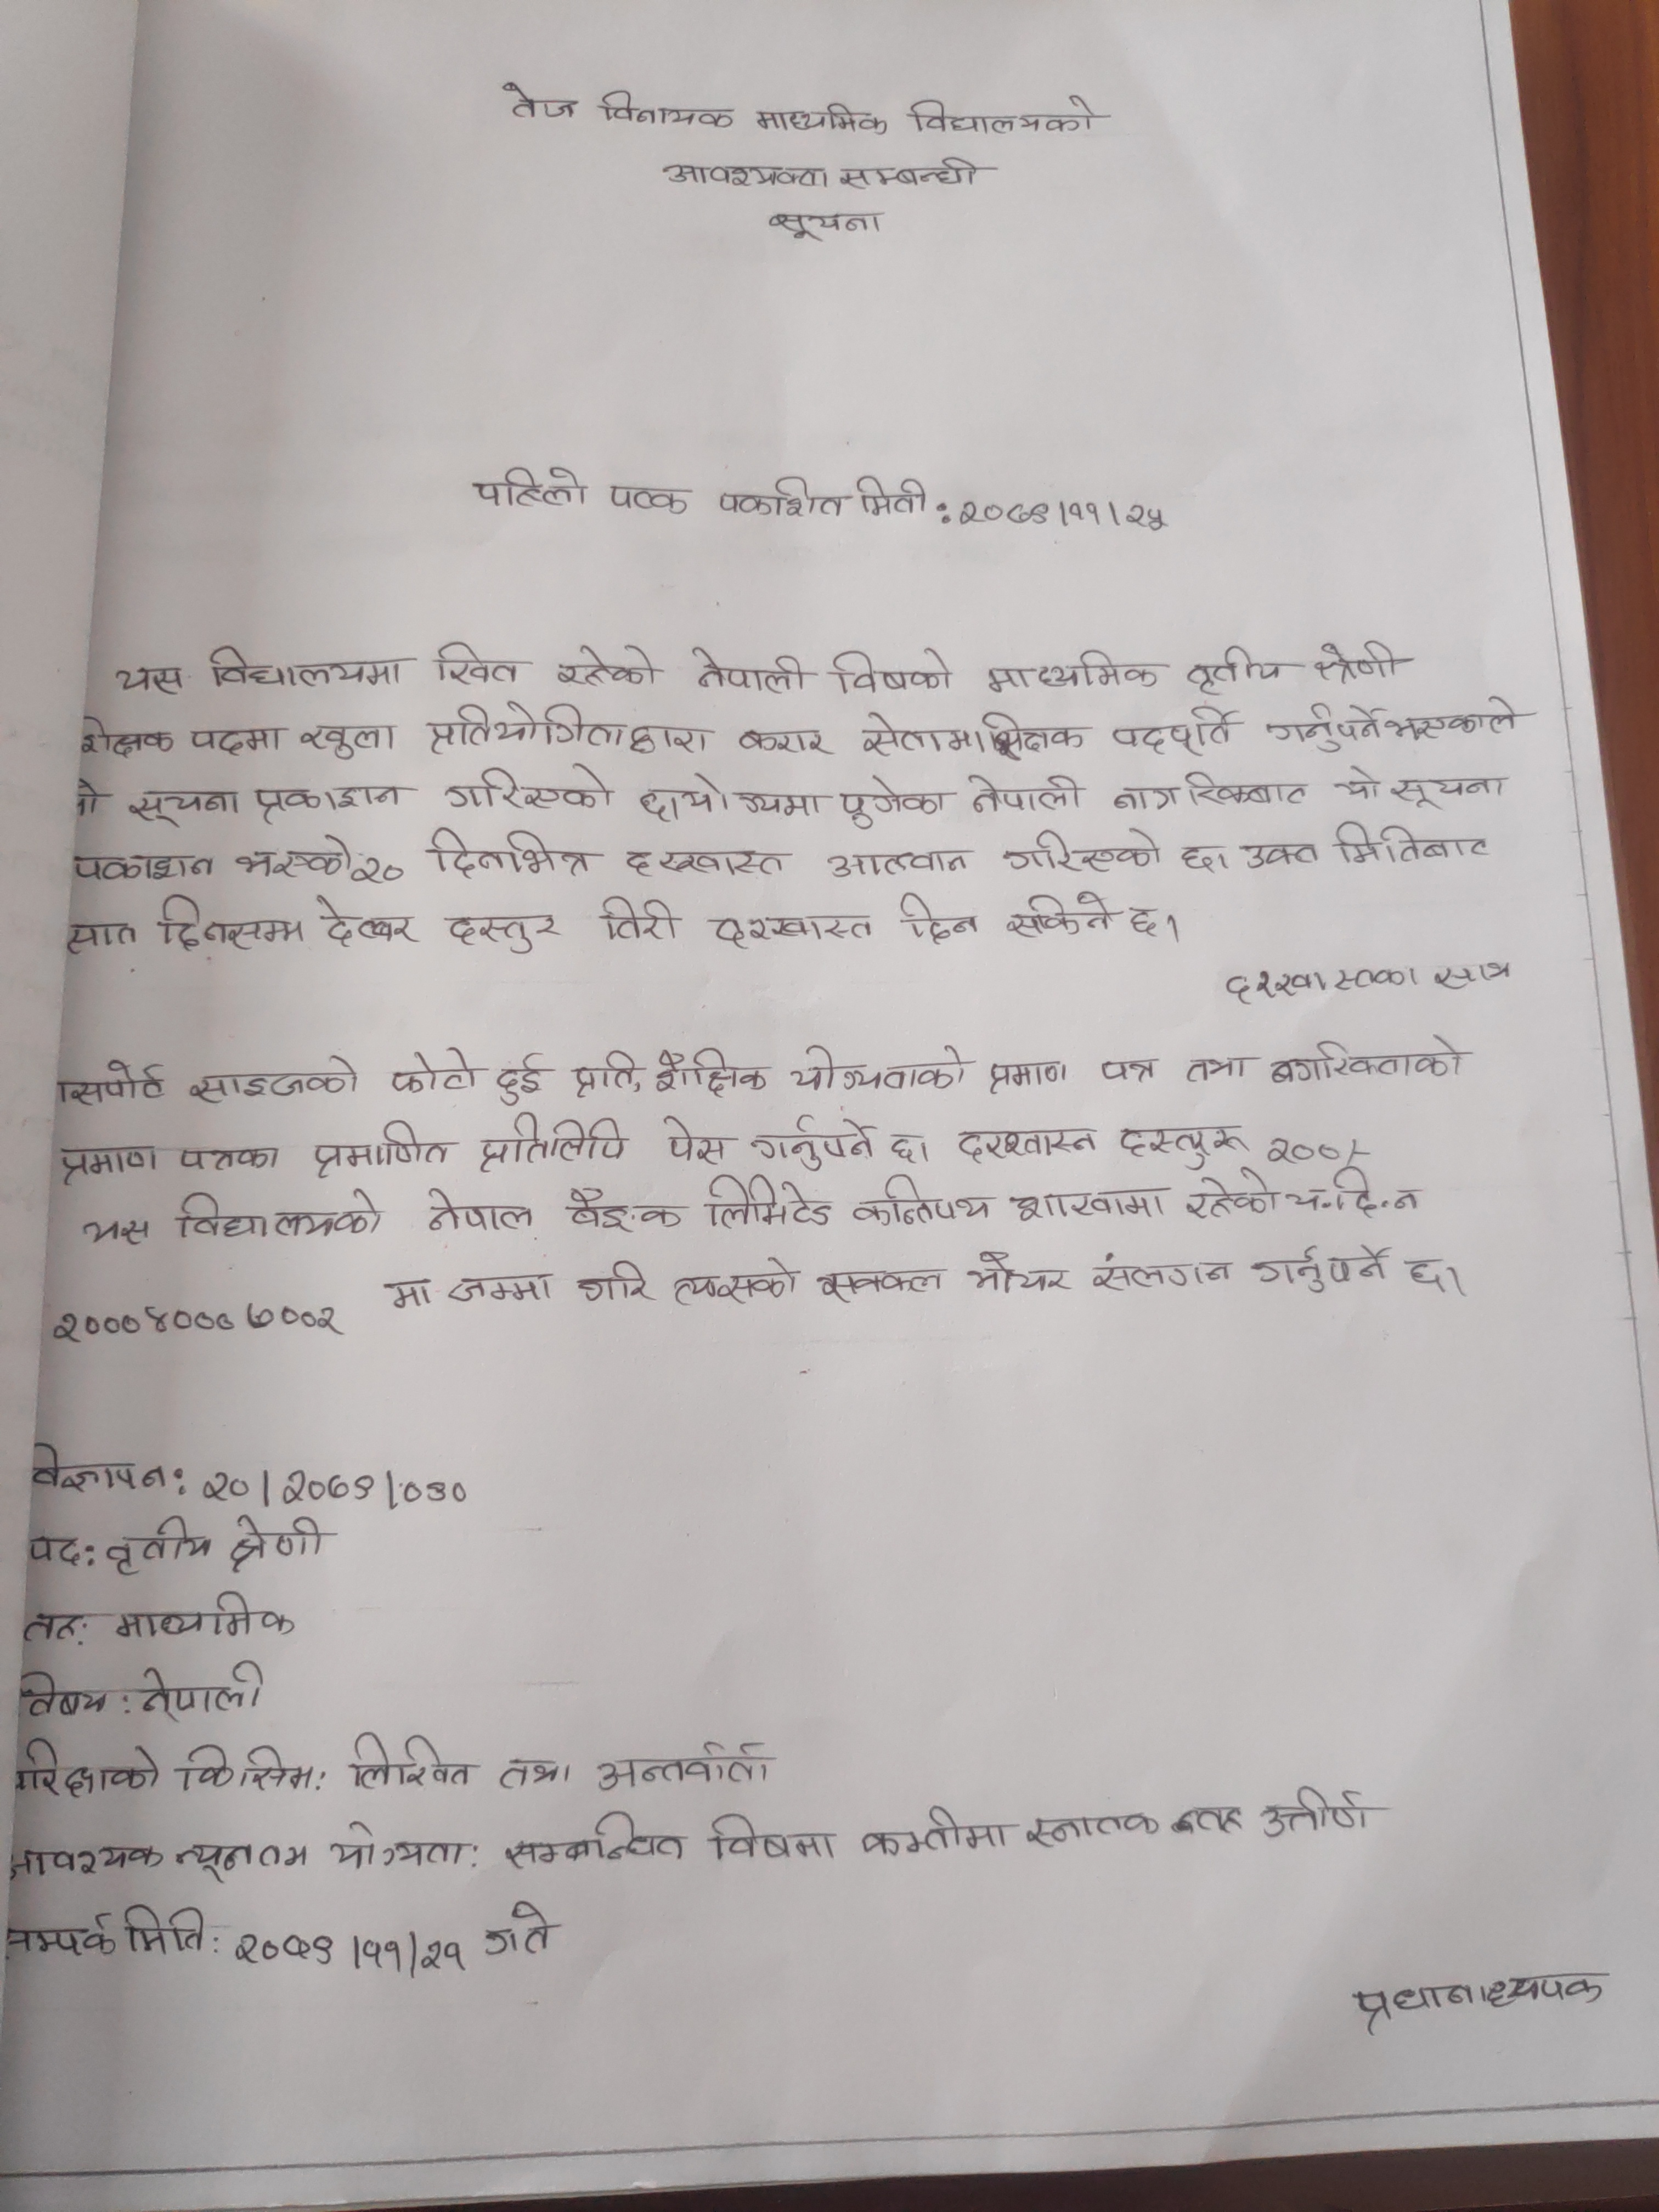text: (422, 700, 713, 759), (1349, 1970, 1612, 2031), (47, 1299, 345, 1348), (195, 1460, 477, 1508), (171, 1186, 390, 1244), (232, 1926, 467, 1979), (498, 1808, 694, 1871), (1265, 1035, 1474, 1087), (636, 770, 824, 826), (202, 643, 410, 693), (9, 1737, 160, 1804), (112, 1590, 301, 1642), (471, 1113, 627, 1176), (788, 1038, 969, 1092), (186, 1055, 364, 1109), (427, 826, 601, 880), (594, 1740, 779, 1791), (148, 892, 310, 949), (303, 1116, 455, 1177), (24, 1439, 173, 1500), (856, 1804, 1012, 1862), (132, 1656, 268, 1721), (443, 765, 620, 813), (1000, 826, 1169, 876), (347, 1728, 479, 1792), (985, 650, 1162, 697), (906, 94, 1105, 136), (702, 1169, 836, 1230), (1110, 770, 1314, 810), (850, 1170, 995, 1226), (706, 1808, 845, 1865), (854, 705, 986, 765), (1244, 1242, 1394, 1294), (324, 1818, 469, 1872), (749, 1111, 880, 1170), (1107, 705, 1244, 761), (1330, 817, 1497, 862), (955, 496, 1169, 531), (1258, 1785, 1380, 1846), (1384, 690, 1525, 742), (1281, 1170, 1422, 1223), (3, 1836, 166, 1881), (683, 641, 810, 698), (249, 780, 410, 826), (105, 1512, 216, 1576), (221, 1510, 335, 1573), (178, 1743, 317, 1794), (1086, 1245, 1234, 1292), (647, 1047, 775, 1101), (669, 1258, 805, 1308), (1006, 1186, 1169, 1228), (828, 644, 958, 695), (1114, 1123, 1248, 1172), (1263, 704, 1385, 756), (716, 475, 856, 521), (171, 1838, 310, 1883), (1004, 890, 1115, 946), (565, 1183, 687, 1233), (594, 89, 735, 132), (617, 845, 791, 880), (49, 1059, 167, 1109), (1021, 1808, 1164, 1850), (836, 777, 950, 829), (3, 1911, 117, 1963), (232, 831, 352, 880), (964, 1247, 1084, 1296), (1183, 644, 1291, 698), (706, 913, 878, 946), (441, 909, 566, 954), (835, 155, 990, 192), (471, 463, 591, 510), (420, 1190, 540, 1237), (71, 845, 218, 883), (310, 895, 420, 946), (985, 704, 1084, 759), (814, 1266, 951, 1306), (951, 1125, 1100, 1162), (965, 770, 1082, 815), (824, 848, 974, 883), (479, 1897, 556, 1965), (12, 1669, 108, 1723), (659, 162, 833, 192), (119, 1902, 211, 1958), (1183, 1170, 1284, 1221), (554, 641, 662, 688), (1389, 772, 1509, 813), (125, 787, 242, 829), (894, 887, 981, 942), (751, 101, 889, 136), (762, 206, 885, 244), (77, 714, 181, 759), (52, 1141, 160, 1184), (382, 1050, 484, 1096), (432, 641, 525, 690), (300, 719, 403, 761), (1258, 1132, 1373, 1169), (1314, 641, 1408, 685), (178, 1141, 284, 1179), (598, 894, 680, 942), (448, 1271, 556, 1308), (497, 77, 586, 120), (655, 1113, 727, 1167), (856, 472, 932, 521), (181, 726, 291, 759), (573, 1258, 653, 1303), (568, 1049, 636, 1099), (983, 1059, 1077, 1094), (735, 728, 831, 761), (497, 1754, 575, 1794), (82, 1209, 157, 1251), (14, 1609, 89, 1651), (606, 481, 692, 517), (493, 1052, 547, 1109), (61, 918, 138, 956), (112, 660, 185, 700), (21, 1529, 85, 1575), (1182, 1050, 1255, 1089), (1243, 838, 1323, 873), (1094, 1050, 1162, 1090), (382, 1273, 439, 1317), (1330, 765, 1384, 810), (1190, 1797, 1246, 1838), (356, 852, 408, 890), (1403, 1256, 1448, 1298), (1175, 838, 1218, 880), (1124, 902, 1162, 941), (889, 1130, 922, 1170)
